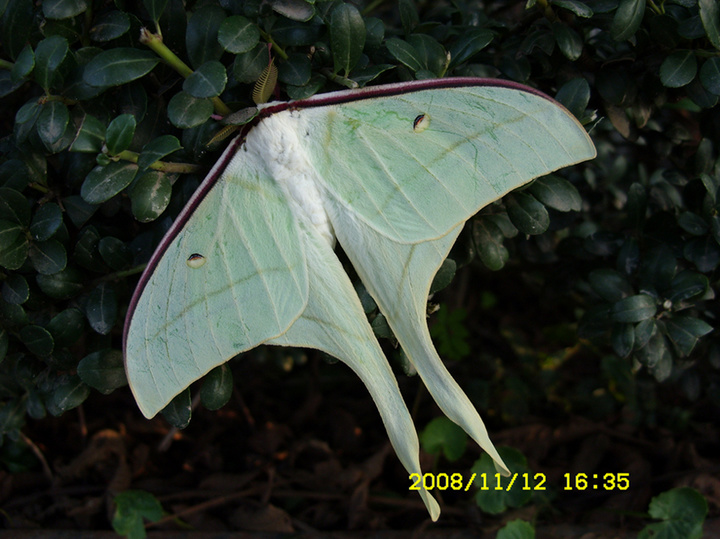feie: (111, 75, 601, 425)
